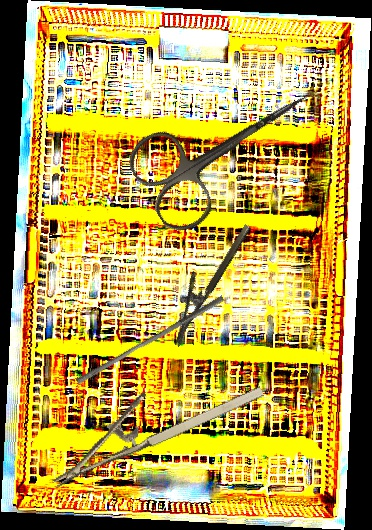Iris Scissors: (119, 54, 335, 240)
Needle Holder: (35, 351, 267, 488), (155, 214, 253, 347)
Pusher: (75, 289, 225, 390)
